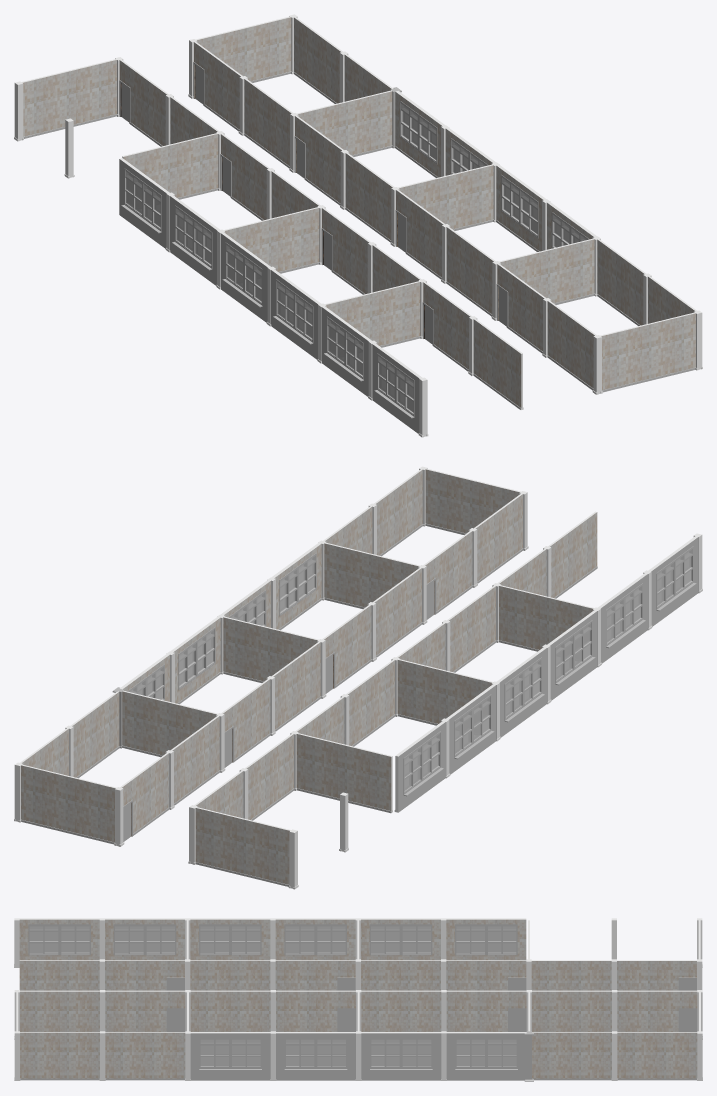
Rendered from ParedDobleConPuerta_y_MarcoClase_1.dae.
3 renders of one model, top to bottom at view 1: azimuth 30°, elevation 25°; view 2: azimuth 150°, elevation 25°; view 3: azimuth 270°, elevation 25°, orthographic. The views are drawn at different scales.
Visible parts, largest first — view 1: group_62, group_21, group_25, group_11, group_52, group_35, group_6, group_33, group_55, group_5, group_49, group_41 (+25 smaller); view 2: group_25, group_21, group_52, group_11, group_62, group_55, group_33, group_35, group_6, group_5, group_70, group_38 (+25 smaller); view 3: group_69, group_71, group_61, group_70, group_38, group_49, group_41, group_46, group_73 (×4), group_42, group_29, group_47 (+32 smaller).
Part boxes in pixels (left/top/right/bottom): group_62: left=601, top=313, right=695, bottom=390; group_21: left=23, top=60, right=116, bottom=136; group_25: left=123, top=134, right=218, bottom=197; group_11: left=225, top=208, right=319, bottom=271; group_52: left=197, top=17, right=291, bottom=81; group_35: left=298, top=91, right=392, bottom=155; group_6: left=326, top=282, right=420, bottom=345; group_33: left=399, top=165, right=493, bottom=229; group_55: left=500, top=239, right=594, bottom=303; group_5: left=473, top=319, right=521, bottom=407; group_49: left=446, top=227, right=493, bottom=314; group_41: left=547, top=301, right=594, bottom=388; group_25: left=296, top=734, right=391, bottom=810; group_21: left=195, top=808, right=289, bottom=884; group_52: left=21, top=765, right=115, bottom=842; group_11: left=397, top=660, right=491, bottom=723; group_62: left=425, top=469, right=519, bottom=533; group_55: left=324, top=543, right=418, bottom=607; group_33: left=223, top=617, right=317, bottom=681; group_35: left=122, top=691, right=216, bottom=755; group_6: left=499, top=586, right=592, bottom=649; group_5: left=550, top=512, right=597, bottom=597; group_70: left=72, top=692, right=119, bottom=777; group_38: left=273, top=642, right=320, bottom=729; group_69: left=617, top=1032, right=697, bottom=1078; group_71: left=105, top=1032, right=185, bottom=1078; group_61: left=20, top=1032, right=99, bottom=1078; group_70: left=532, top=1032, right=611, bottom=1078; group_38: left=361, top=991, right=441, bottom=1031; group_49: left=190, top=991, right=270, bottom=1031; group_41: left=20, top=991, right=99, bottom=1031; group_46: left=532, top=991, right=611, bottom=1031; group_73 (×4): left=361, top=1033, right=441, bottom=1080; group_42: left=446, top=991, right=526, bottom=1031; group_29: left=105, top=991, right=185, bottom=1031; group_47: left=617, top=991, right=697, bottom=1031.
Bounding box in the file's own units: 712 × 1761 × 134.
